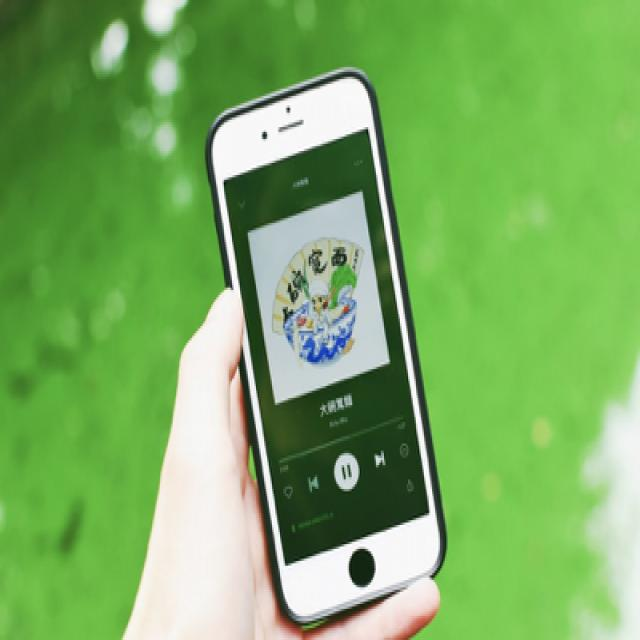cellphone: (204, 65, 446, 630)
